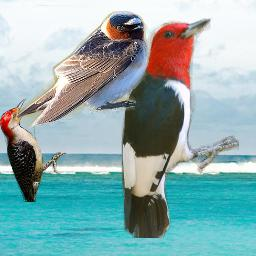Swallow: (14, 11, 149, 131)
Woodpecker: (120, 18, 239, 238), (0, 98, 68, 202)
